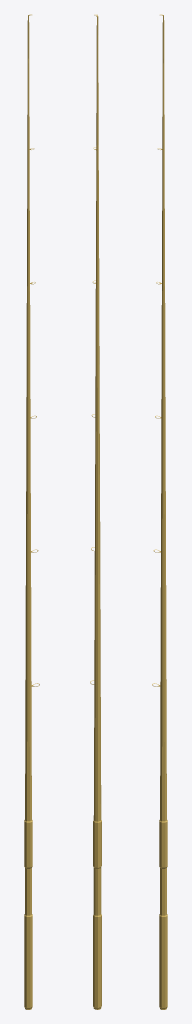
Rendered from rod-master.glb.
3 renders of one model, left to right at view 1: azimuth 90°, elevation 25°; view 2: azimuth 210°, elevation 25°; view 3: azimuth 270°, elevation 25°, orthographic.
Visible parts, largest first — view 1: RodExport_master; view 2: RodExport_master; view 3: RodExport_master.
Part boxes in pixels (x1=…): RodExport_master: x1=24, y1=14, x2=39, y2=1009; RodExport_master: x1=90, y1=14, x2=101, y2=1009; RodExport_master: x1=152, y1=14, x2=167, y2=1009.
Bounding box in the file's own units: 0.0222 × 2.9 × 0.0407.
